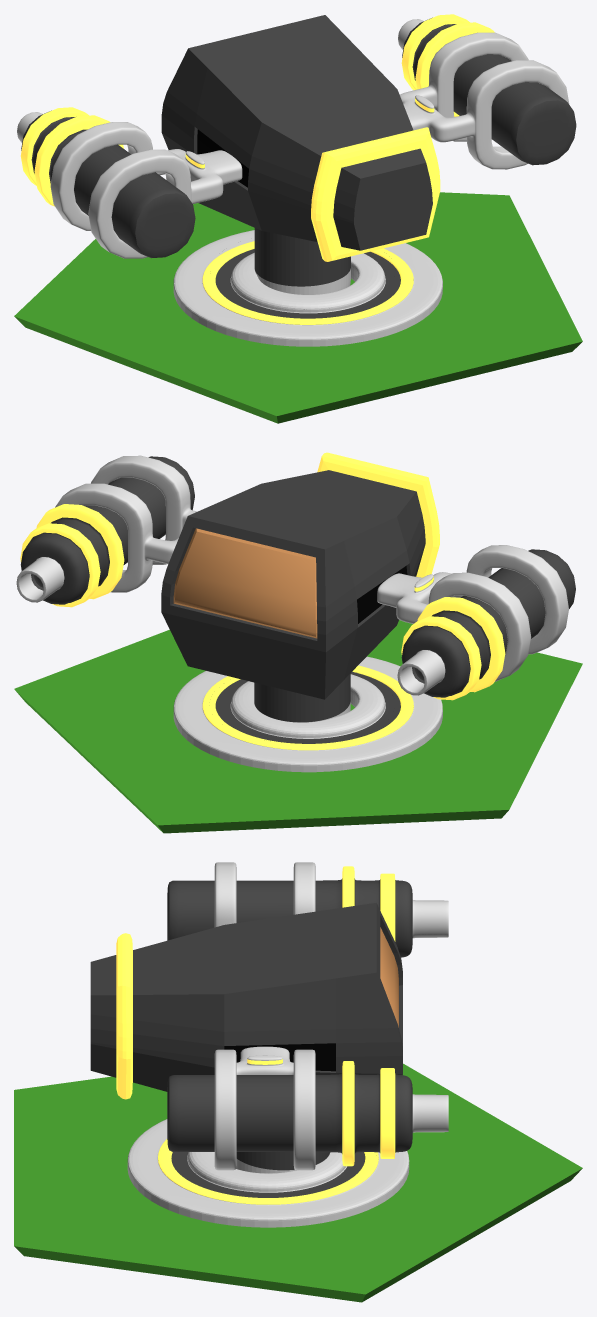
The model's file is Small_turret_3.fbx.
3 views of the same model, one above another, from view 1: azimuth 30°, elevation 25°; view 2: azimuth 150°, elevation 25°; view 3: azimuth 270°, elevation 25° (orthographic). The views are drawn at different scales.
Parts seen in each view (by area): view 1: DodecagonVideTuile.001, Cube, Cube.001, Cylinder, Cylinder.001; view 2: DodecagonVideTuile.001, Cube, Cube.001, Cylinder, Cylinder.001; view 3: DodecagonVideTuile.001, Cube, Cube.001, Cylinder, Cylinder.001.
Boxes of the visible parts, box(x1,y1,x2,y2) form: DodecagonVideTuile.001: box(14, 192, 582, 423); Cube: box(161, 15, 440, 261); Cube.001: box(17, 14, 576, 258); Cylinder: box(173, 230, 442, 346); Cylinder.001: box(254, 228, 350, 309); DodecagonVideTuile.001: box(14, 620, 582, 833); Cube: box(161, 452, 439, 699); Cube.001: box(16, 455, 575, 700); Cylinder: box(173, 656, 442, 772); Cylinder.001: box(254, 673, 392, 743); DodecagonVideTuile.001: box(14, 1063, 582, 1302); Cube: box(90, 902, 402, 1099); Cube.001: box(167, 862, 448, 1170); Cylinder: box(127, 1119, 409, 1227); Cylinder.001: box(236, 1152, 330, 1173).
Size of the model in its own units: 111 by 49.71 by 105.
